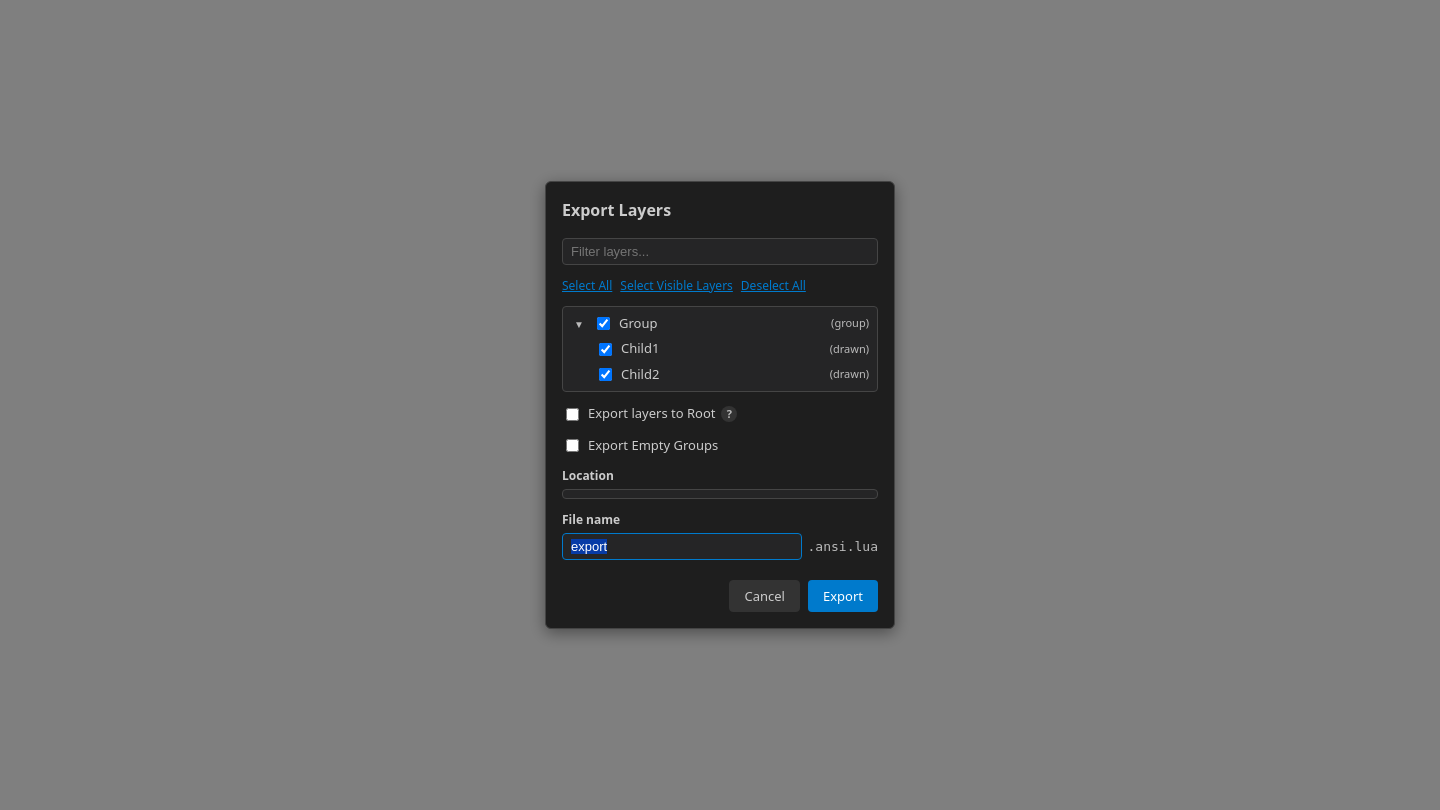
Scenario: ExportLayersDialog — tags, groups, dedup › group tri-state checkbox › clicking group checkbox in manual mode toggles all descendants
The width and height of the screenshot is (1440, 810).
Click the checkbox with test id "export-check-g-1" at point(604, 324), box [597,317,610,330]
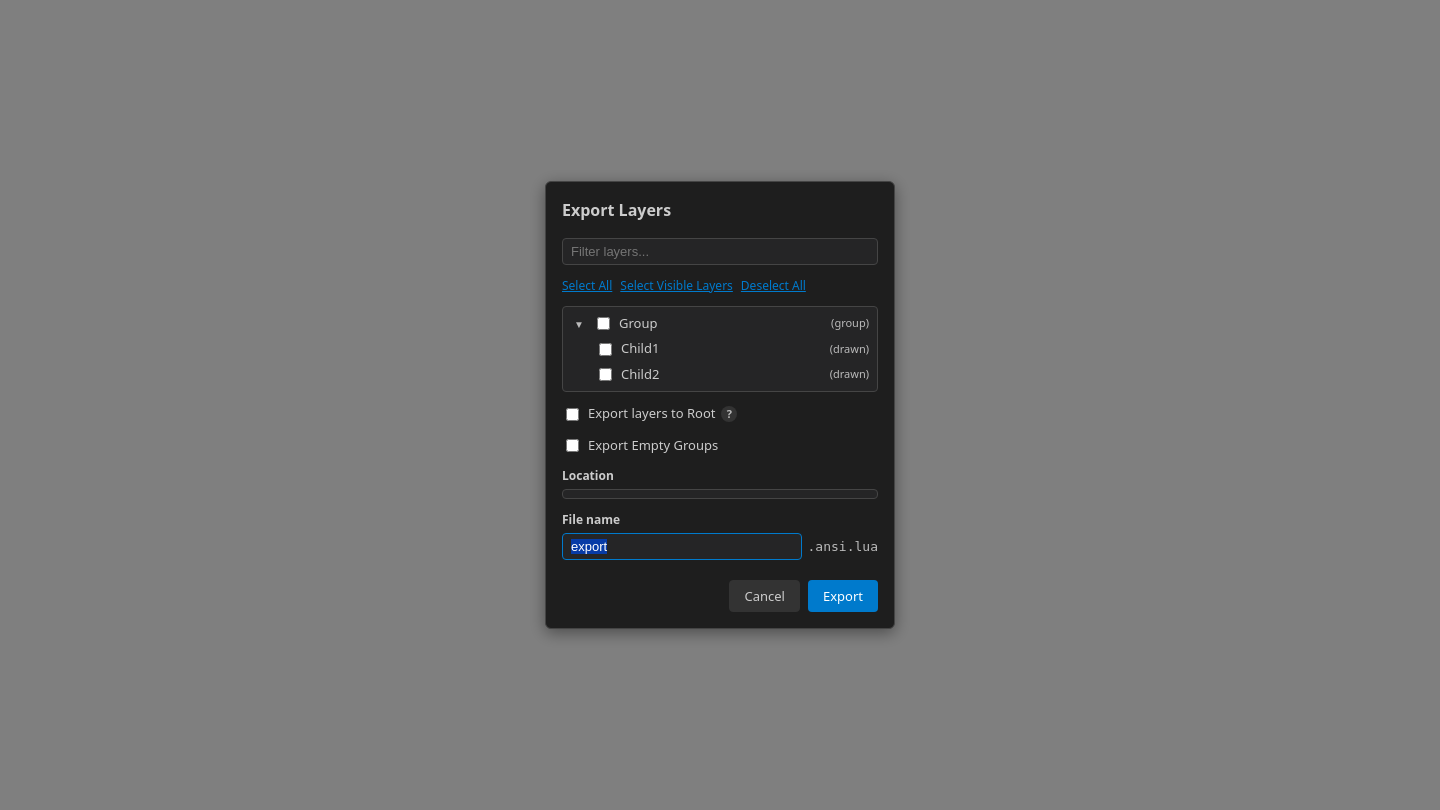
Expected: the checkbox with test id "export-check-c-1" is not checked, [599,342,612,356]
Expected: the checkbox with test id "export-check-c-2" is not checked, [599,368,612,381]
Click the checkbox with test id "export-check-g-1" at point(604, 324), box [597,317,610,330]
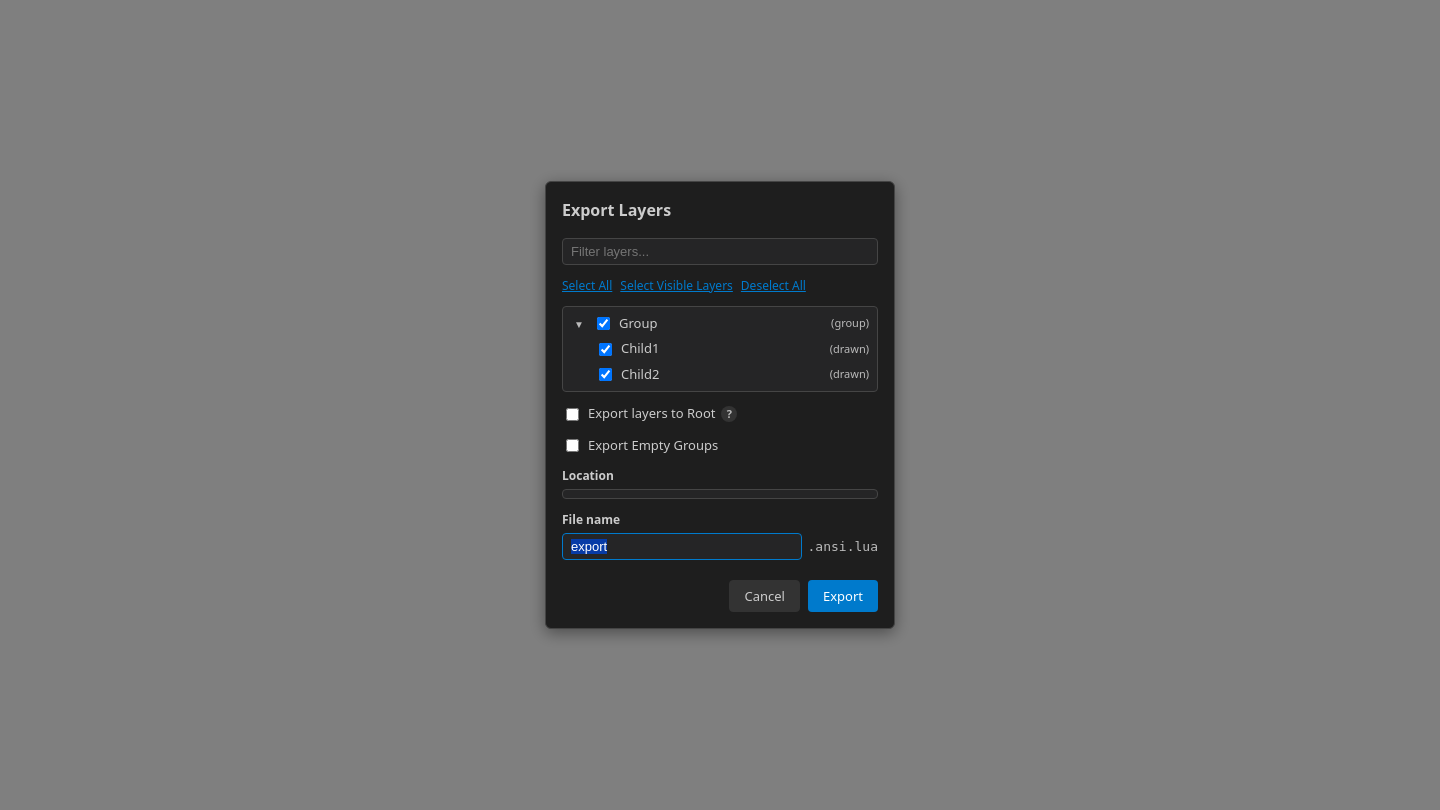
Expected: the checkbox with test id "export-check-c-1" is checked, [599,342,612,356]
Expected: the checkbox with test id "export-check-c-2" is checked, [599,368,612,381]
